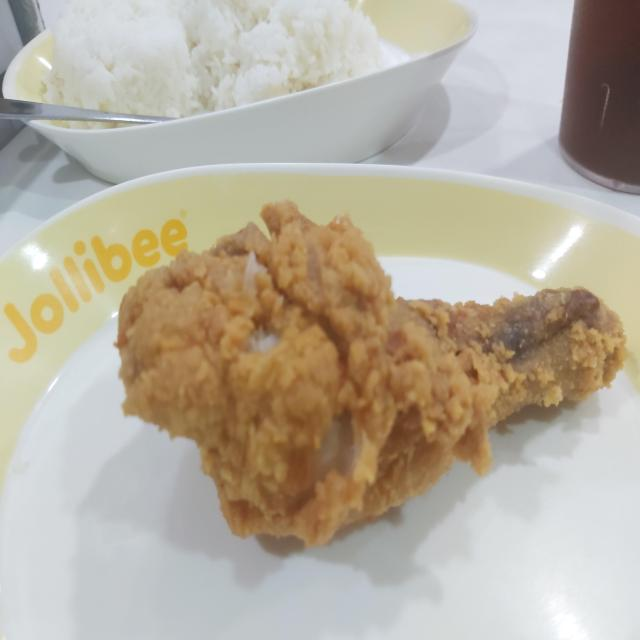Chicken -Fried Chicken-: (115, 193, 619, 525)
